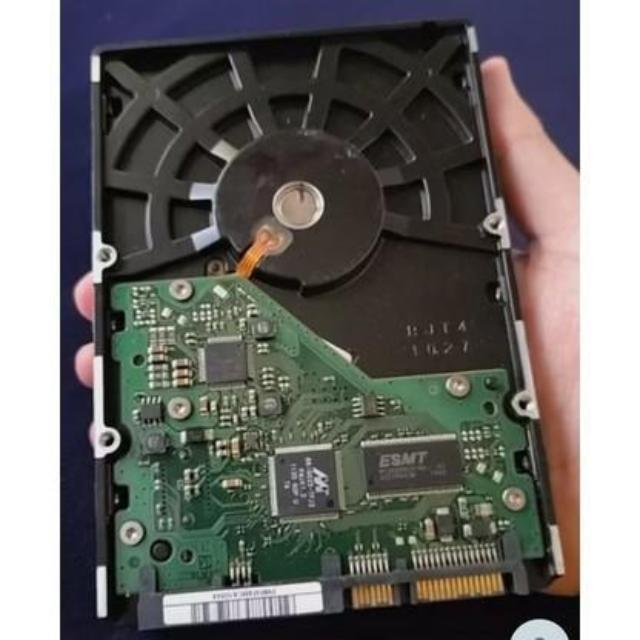DISK: (82, 33, 560, 613)
